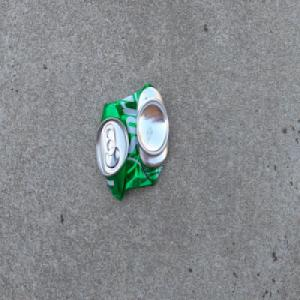SodaCan: (94, 81, 169, 201)
